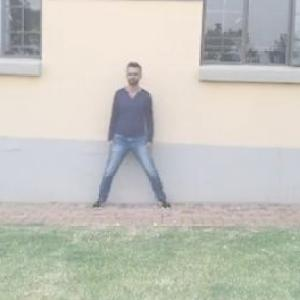follow: (109, 59, 155, 215)
